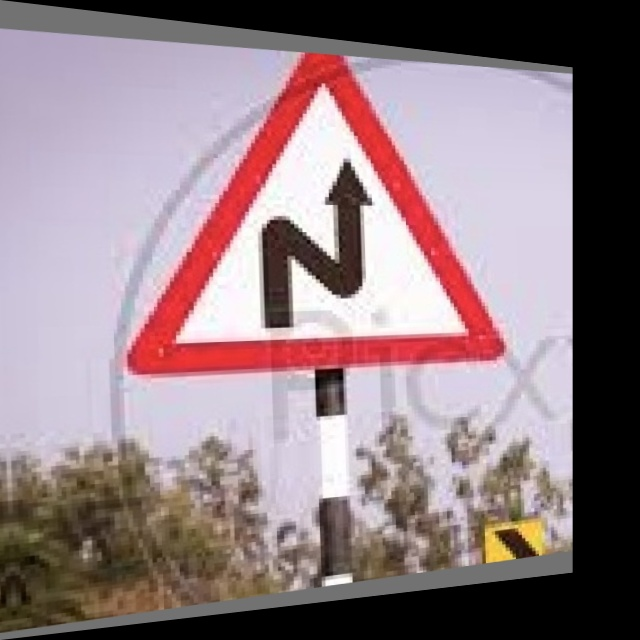Right_Reverse_Bend: (134, 50, 500, 378)
